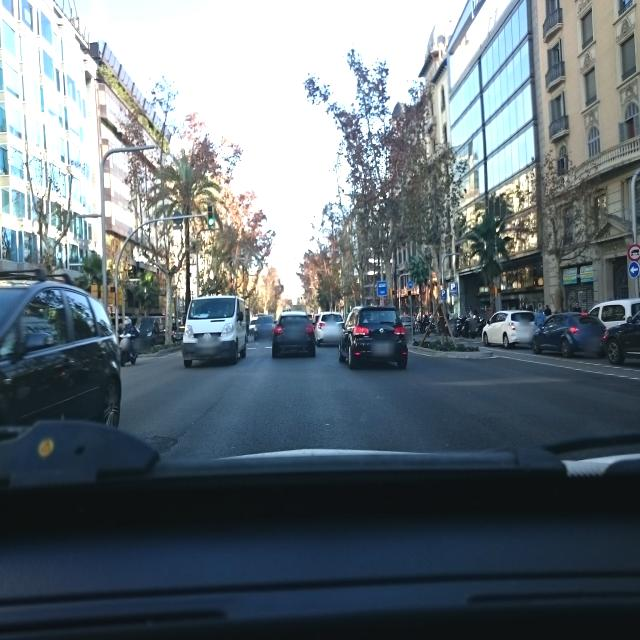bike: (116, 322, 138, 366)
car: (0, 264, 122, 440), (182, 294, 248, 368), (338, 304, 409, 370), (532, 311, 608, 359), (605, 299, 640, 373), (482, 308, 536, 349), (271, 311, 317, 359), (589, 298, 640, 332), (130, 316, 165, 354), (314, 311, 345, 347), (252, 314, 276, 342), (172, 325, 186, 343), (248, 316, 257, 335)
